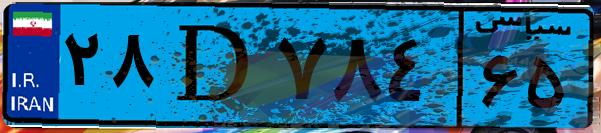2: (57, 26, 110, 100)
4: (385, 28, 445, 110)
5: (525, 38, 570, 115)
6: (475, 38, 525, 113)
7: (270, 28, 330, 110)
8: (330, 28, 385, 110), (110, 28, 158, 98)
D: (158, 12, 270, 120)
